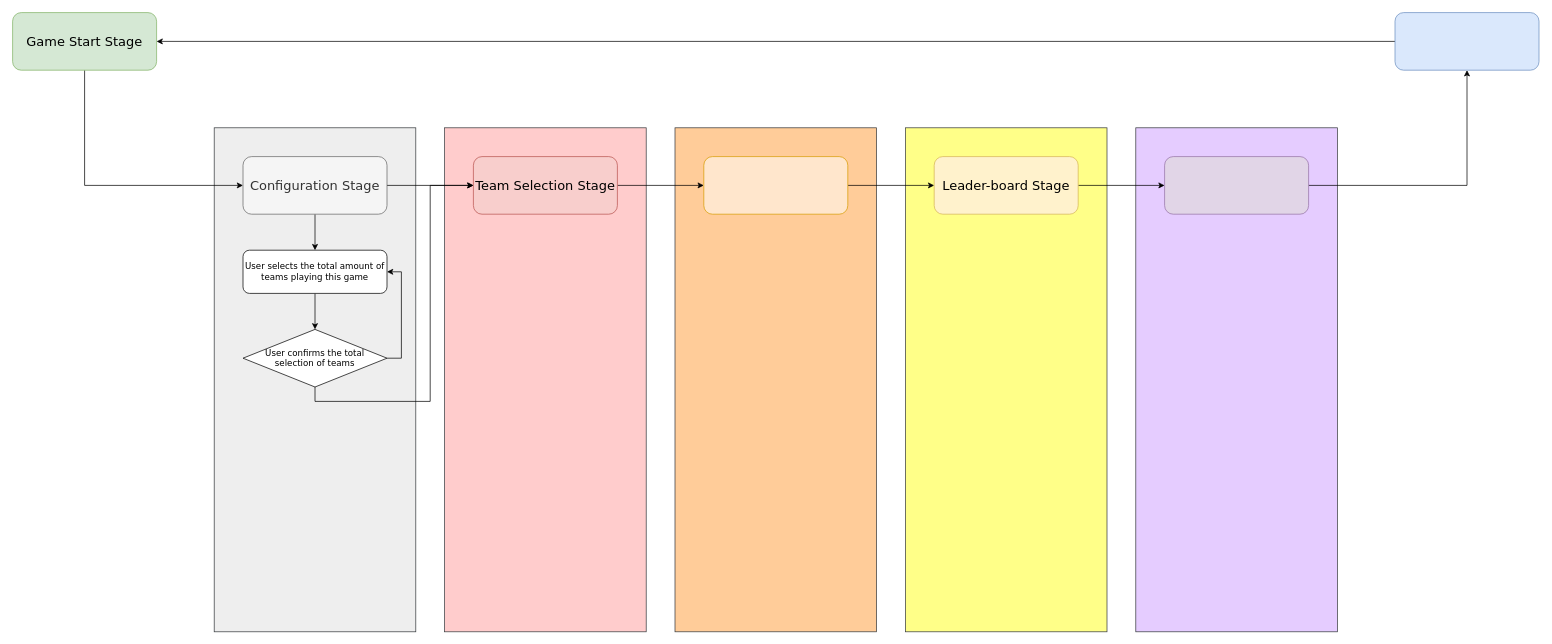
Image size: 1552x644. Some labels were removed from this diagram. The shapes that lost their labels are listed below. From the top down, each one's centre as x and y in pixels, then its label:
At (1466,41): "Game End Stage".
At (775,185): "Question Stage".
At (1236,185): "Winner Stage".
